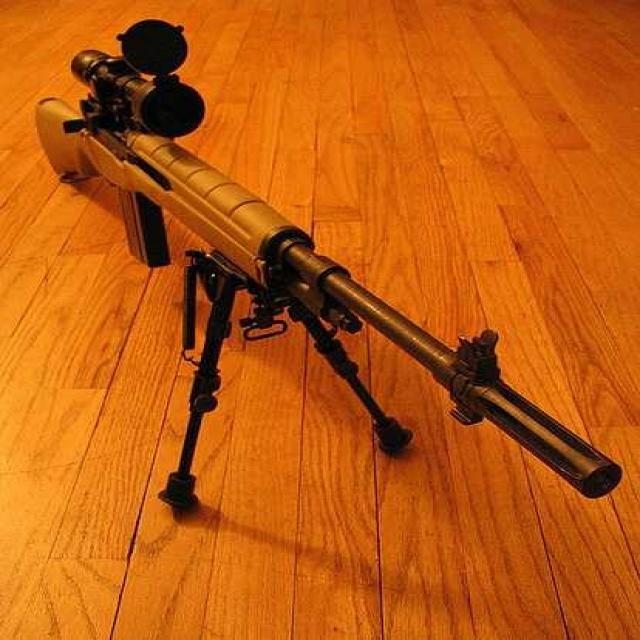weapon: (28, 12, 640, 538)
